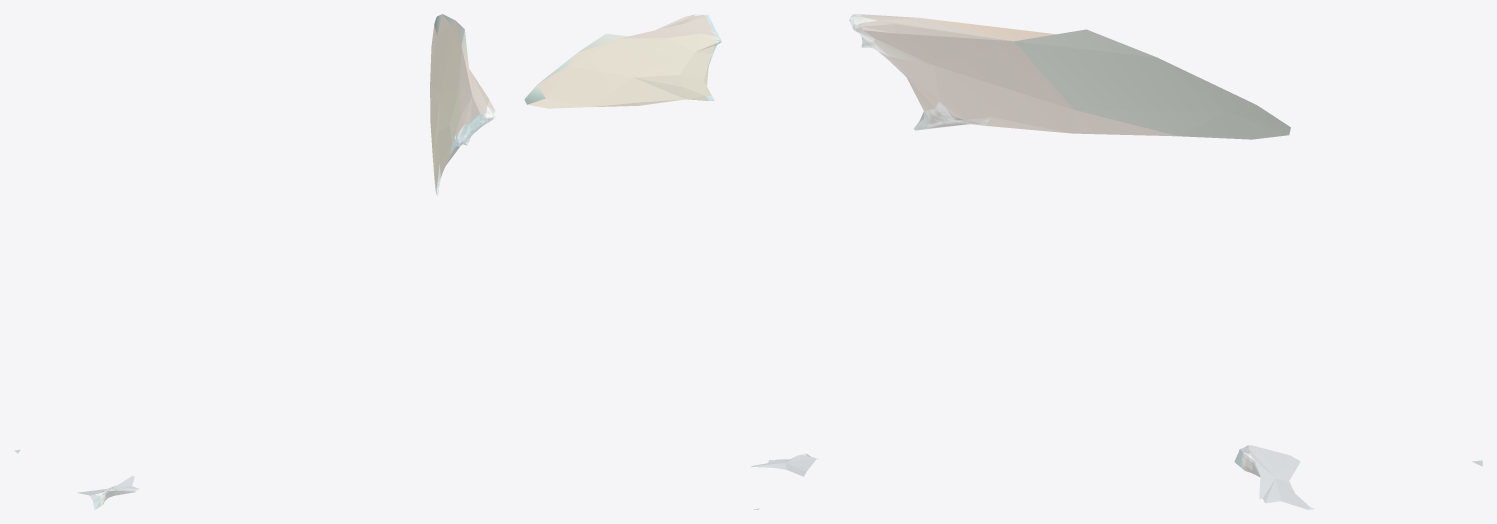
The picture shows the model from 3 angles, left to right: view 1: azimuth 30°, elevation 25°; view 2: azimuth 150°, elevation 25°; view 3: azimuth 270°, elevation 25°; orthographic projection. The views are drawn at different scales.
Size of the model in its own units: 2.79 by 3.23 by 2.75.
Materials: 1 (1 with a texture image).
